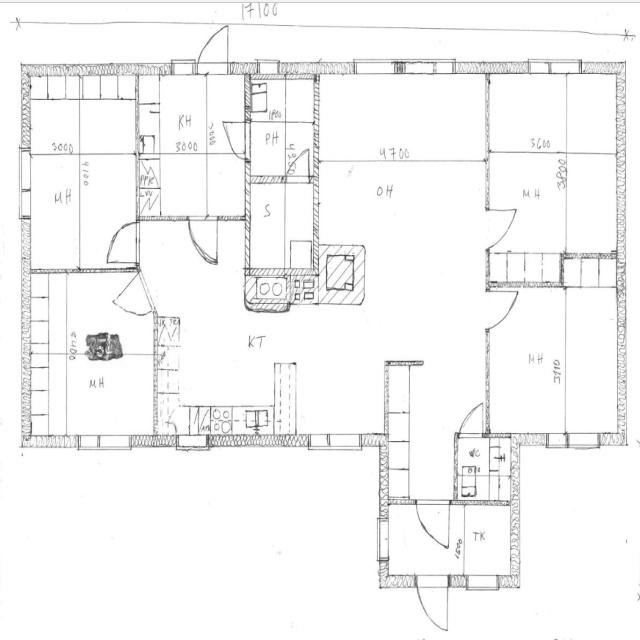door: (316, 70, 490, 164), (485, 280, 566, 436), (415, 572, 451, 635), (414, 494, 453, 549), (195, 23, 232, 77), (104, 215, 141, 268), (186, 212, 220, 266), (112, 272, 150, 320), (482, 203, 518, 250), (484, 284, 519, 332), (221, 119, 252, 163), (457, 399, 488, 441), (285, 146, 313, 185)
window: (304, 430, 367, 456), (17, 150, 35, 225), (78, 433, 134, 455), (351, 56, 397, 79), (524, 57, 570, 78), (564, 431, 602, 454), (465, 574, 501, 594), (169, 58, 198, 79), (177, 439, 211, 455), (313, 298, 355, 310)
zone: (24, 72, 139, 278), (487, 66, 567, 286), (316, 68, 489, 164), (138, 73, 249, 219), (158, 323, 284, 428), (486, 282, 566, 439), (563, 263, 621, 447), (51, 355, 156, 441), (247, 75, 316, 181), (24, 148, 80, 274), (244, 180, 316, 274), (563, 154, 620, 260), (460, 502, 518, 587), (566, 71, 620, 156), (463, 549, 508, 597)
